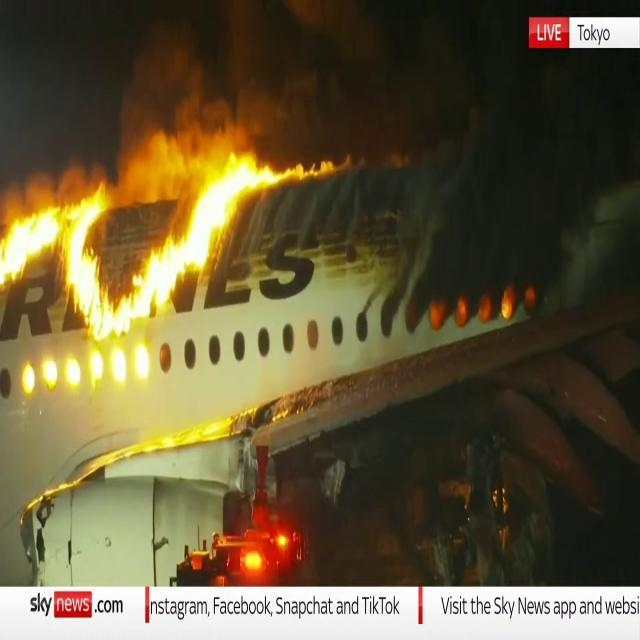Fire: (0, 132, 270, 372)
